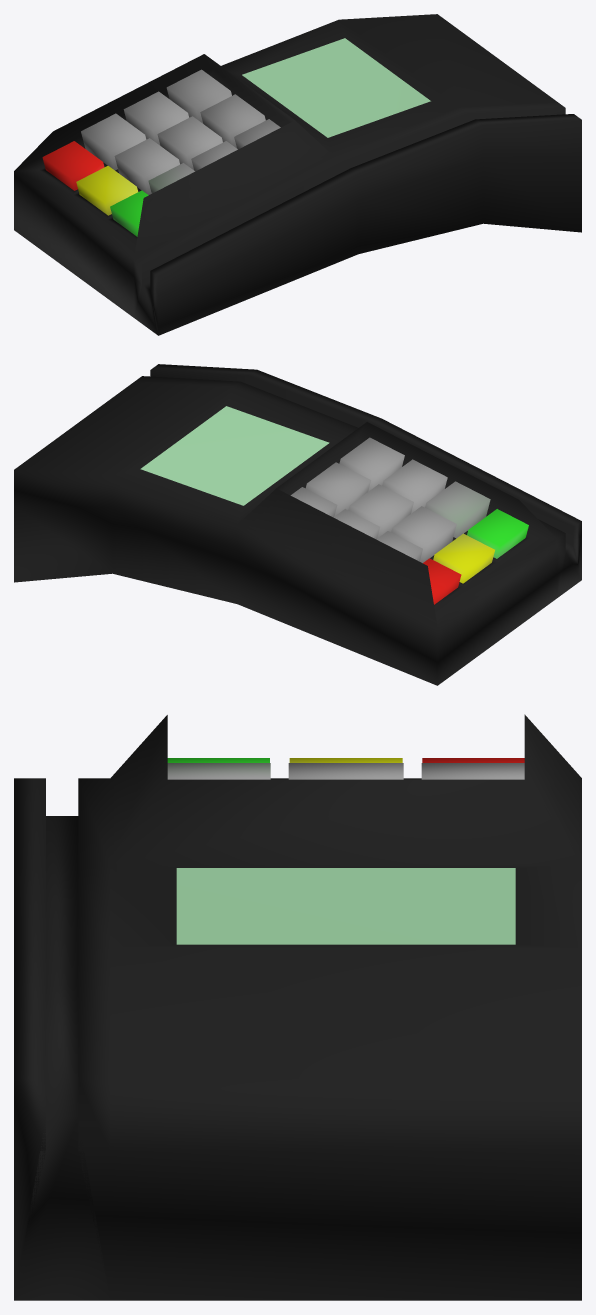
File: payment_terminal.glb
3 renders of one model, top to bottom at view 1: azimuth 30°, elevation 25°; view 2: azimuth 150°, elevation 25°; view 3: azimuth 270°, elevation 25°, orthographic. The views are drawn at different scales.
Parts seen in each view (by area): view 1: Cube.008; view 2: Cube.008; view 3: Cube.008.
Boxes of the visible parts, bbox=[...] form: Cube.008: bbox=[14, 14, 581, 335]; Cube.008: bbox=[14, 364, 581, 685]; Cube.008: bbox=[14, 714, 581, 1300].
Size of the model in its own units: 0.1575 by 0.0512 by 0.0931.
